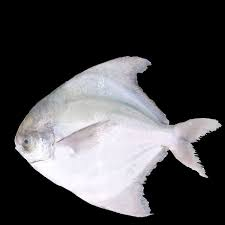Ikan Bawal: (13, 54, 215, 215)
